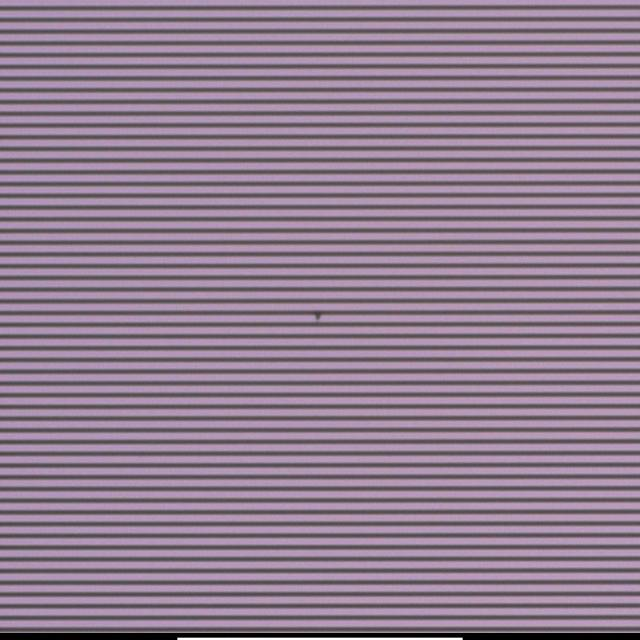03_intrusion: (306, 305, 325, 325)
